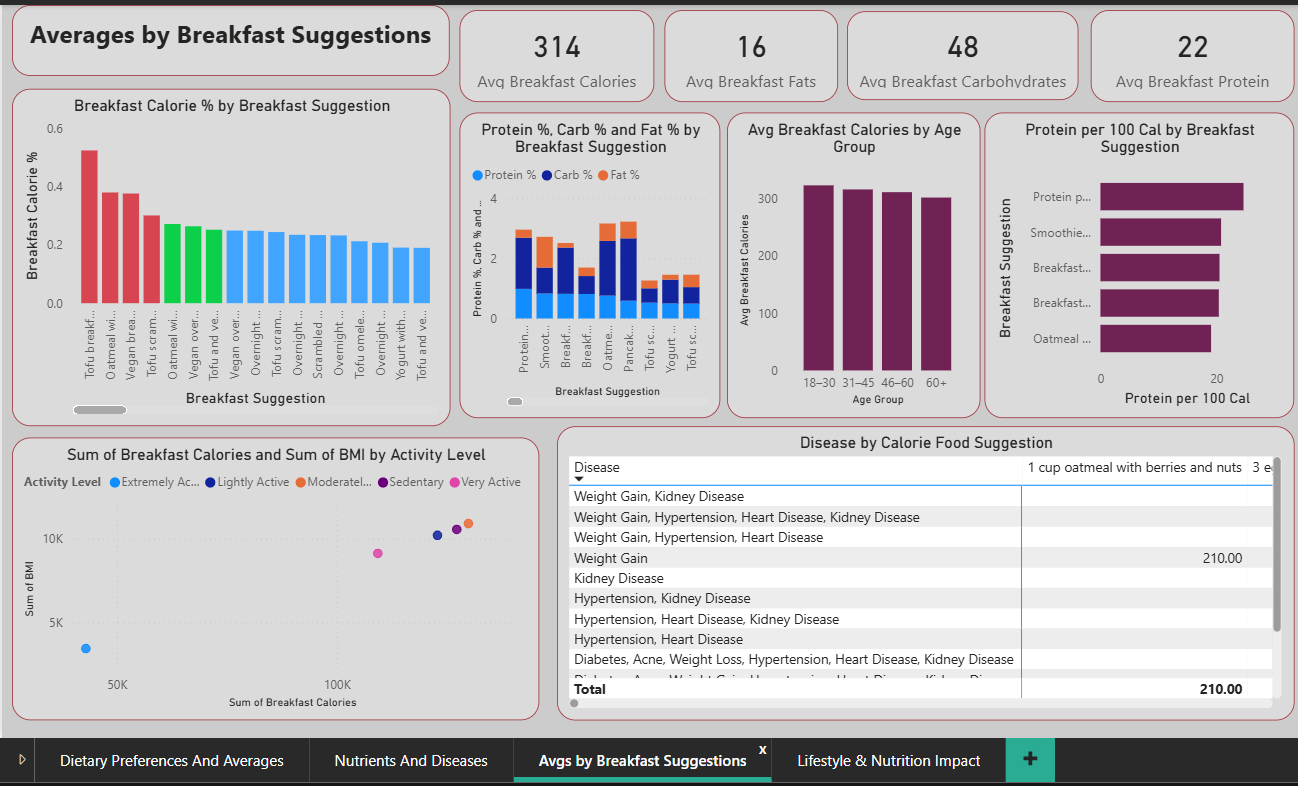

What the dashboard file says about the page in this screenshot:
{"tool":"powerbi","page":{"name":"Avgs by Breakfast Suggestions","canvas":[1280,720],"ordinal":2},"visuals":[{"type":"textbox","box":[9.8,0,429.5,69.9],"z":0},{"type":"clusteredColumnChart","fields":{"Category":["detailed_meals_macros_CLEANED.Breakfast Suggestion"],"Y":["detailed_meals_macros_CLEANED.Breakfast Calorie %"]},"box":[9.8,82.2,430.7,331.3],"z":1000},{"type":"columnChart","fields":{"Category":["detailed_meals_macros_CLEANED.Breakfast Suggestion"],"Y":["detailed_meals_macros_CLEANED.Protein %","detailed_meals_macros_CLEANED.Carb %","detailed_meals_macros_CLEANED.Fat %"]},"box":[448.8,105,256.2,300],"z":2000},{"type":"clusteredColumnChart","fields":{"Category":["detailed_meals_macros_CLEANED.Age Group"],"Y":["detailed_meals_macros_CLEANED.Avg Breakfast Calories"]},"box":[711.2,105,248.8,300],"z":3000},{"type":"scatterChart","fields":{"X":["Sum(detailed_meals_macros_CLEANED.Breakfast Calories)"],"Y":["Sum(detailed_meals_macros_CLEANED.BMI)"],"Series":["detailed_meals_macros_CLEANED.Activity Level"]},"box":[10,425,517.5,277.5],"z":4000},{"type":"pivotTable","title":"Disease by Calorie Food Suggestion","fields":{"Rows":["detailed_meals_macros_CLEANED.Disease"],"Columns":["detailed_meals_macros_CLEANED.Breakfast Suggestion"],"Values":["detailed_meals_macros_CLEANED.Avg Breakfast Calories"]},"box":[545,413.8,723.8,288.8],"z":5000},{"type":"barChart","fields":{"Category":["detailed_meals_macros_CLEANED.Breakfast Suggestion"],"Y":["detailed_meals_macros_CLEANED.Protein per 100 Cal"]},"box":[965,105,303.8,300],"z":6000},{"type":"card","fields":{"Values":["detailed_meals_macros_CLEANED.Avg Breakfast Calories"]},"box":[448.8,5,191.2,90],"z":7000},{"type":"card","fields":{"Values":["detailed_meals_macros_CLEANED.Avg Breakfast Protein"]},"box":[1068.8,5,200,90],"z":8000},{"type":"card","fields":{"Values":["detailed_meals_macros_CLEANED.Avg Breakfast Carbohydrates"]},"box":[830,6.2,227.5,87.5],"z":9000},{"type":"card","fields":{"Values":["detailed_meals_macros_CLEANED.Avg Breakfast Fats"]},"box":[650,5,170,90],"z":10000}]}

Visuals, with their boxes on the page's 1280x720 design canvas (x1, y1, x2, y2). These are canvas units, not pixel positions in the 1298x786 screenshot, which may show the page scaled, cropped or inside an application window:
textbox: (x1=10, y1=0, x2=439, y2=70)
clusteredColumnChart - detailed_meals_macros_CLEANED.Breakfast Suggestion x detailed_meals_macros_CLEANED.Breakfast Calorie %: (x1=10, y1=82, x2=440, y2=414)
columnChart - detailed_meals_macros_CLEANED.Breakfast Suggestion x detailed_meals_macros_CLEANED.Protein %: (x1=449, y1=105, x2=705, y2=405)
clusteredColumnChart - detailed_meals_macros_CLEANED.Age Group x detailed_meals_macros_CLEANED.Avg Breakfast Calories: (x1=711, y1=105, x2=960, y2=405)
scatterChart - Sum(detailed_meals_macros_CLEANED.Breakfast Calories) x Sum(detailed_meals_macros_CLEANED.BMI): (x1=10, y1=425, x2=528, y2=702)
"Disease by Calorie Food Suggestion" pivotTable: (x1=545, y1=414, x2=1269, y2=703)
barChart - detailed_meals_macros_CLEANED.Breakfast Suggestion x detailed_meals_macros_CLEANED.Protein per 100 Cal: (x1=965, y1=105, x2=1269, y2=405)
card - detailed_meals_macros_CLEANED.Avg Breakfast Calories: (x1=449, y1=5, x2=640, y2=95)
card - detailed_meals_macros_CLEANED.Avg Breakfast Protein: (x1=1069, y1=5, x2=1269, y2=95)
card - detailed_meals_macros_CLEANED.Avg Breakfast Carbohydrates: (x1=830, y1=6, x2=1058, y2=94)
card - detailed_meals_macros_CLEANED.Avg Breakfast Fats: (x1=650, y1=5, x2=820, y2=95)
